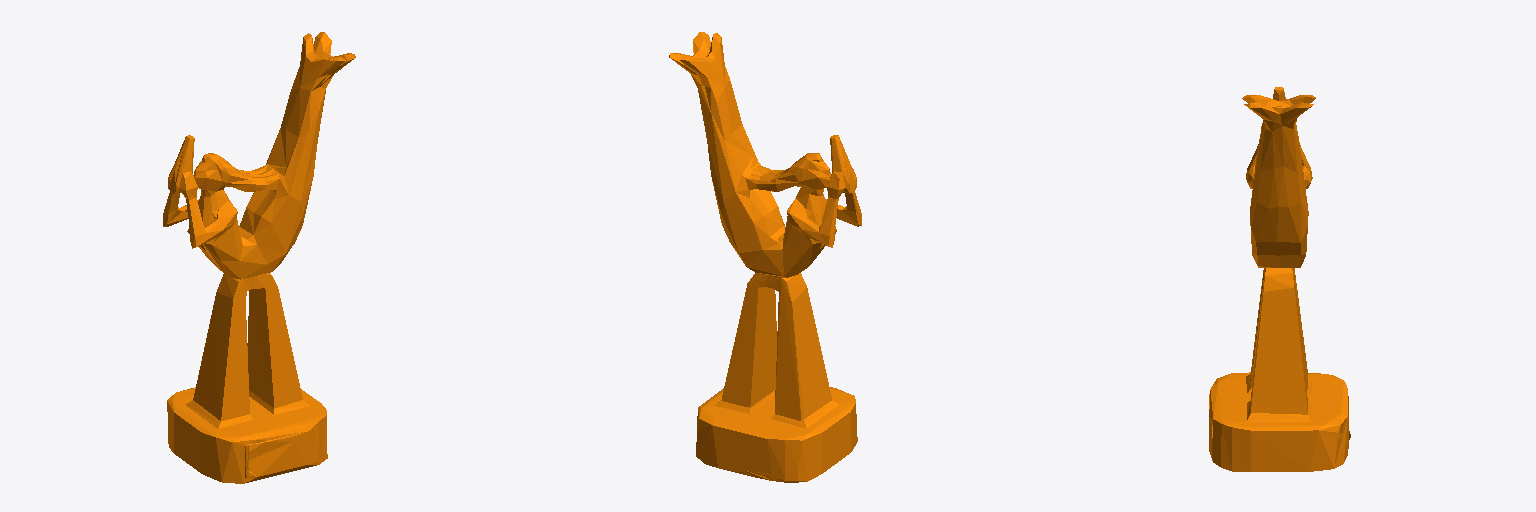
Rendered from golden_disk.obj.
3 views of the same model, side by side, from view 1: azimuth 30°, elevation 25°; view 2: azimuth 150°, elevation 25°; view 3: azimuth 270°, elevation 25° (orthographic).
Parts seen in each view (by area): view 1: Cube.001; view 2: Cube.001; view 3: Cube.001.
Part boxes in pixels (x1,y1,x2,y2): Cube.001: (163,32,355,483); Cube.001: (669,32,861,482); Cube.001: (1209,87,1350,471).
Size of the model in its own units: 0.5131 by 1.12 by 0.3749.